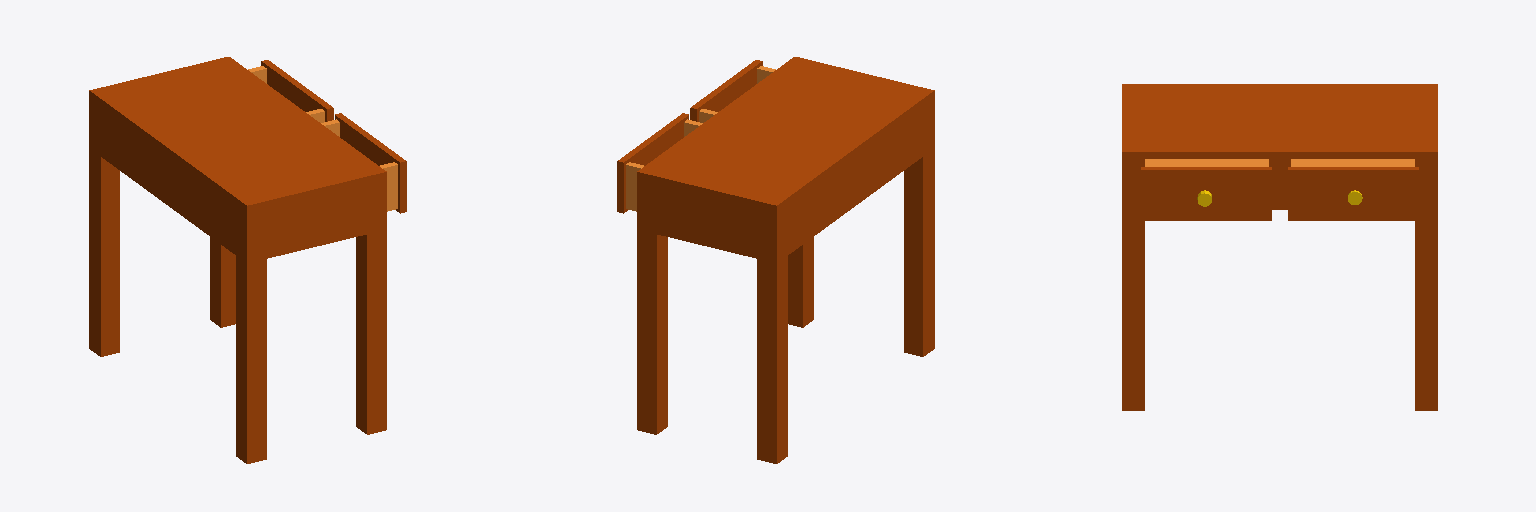
The picture shows the model from 3 angles: view 1: azimuth 30°, elevation 25°; view 2: azimuth 150°, elevation 25°; view 3: azimuth 270°, elevation 25°; orthographic projection.
Parts seen in each view (by area): view 1: group[number redacted], group[number redacted], group[number redacted]; view 2: group[number redacted], group[number redacted], group[number redacted]; view 3: group[number redacted], group[number redacted], group[number redacted].
Boxes of the visible parts, box(x1,y1,x2,y2) form: group[number redacted]: box(89, 57, 386, 463); group[number redacted]: box(321, 113, 406, 213); group[number redacted]: box(248, 60, 333, 122); group[number redacted]: box(637, 57, 934, 463); group[number redacted]: box(617, 113, 702, 213); group[number redacted]: box(690, 60, 775, 122); group[number redacted]: box(1122, 84, 1437, 410); group[number redacted]: box(1141, 159, 1271, 220); group[number redacted]: box(1288, 159, 1418, 220).
Size of the model in its own units: 0.54 by 0.76 by 0.84.